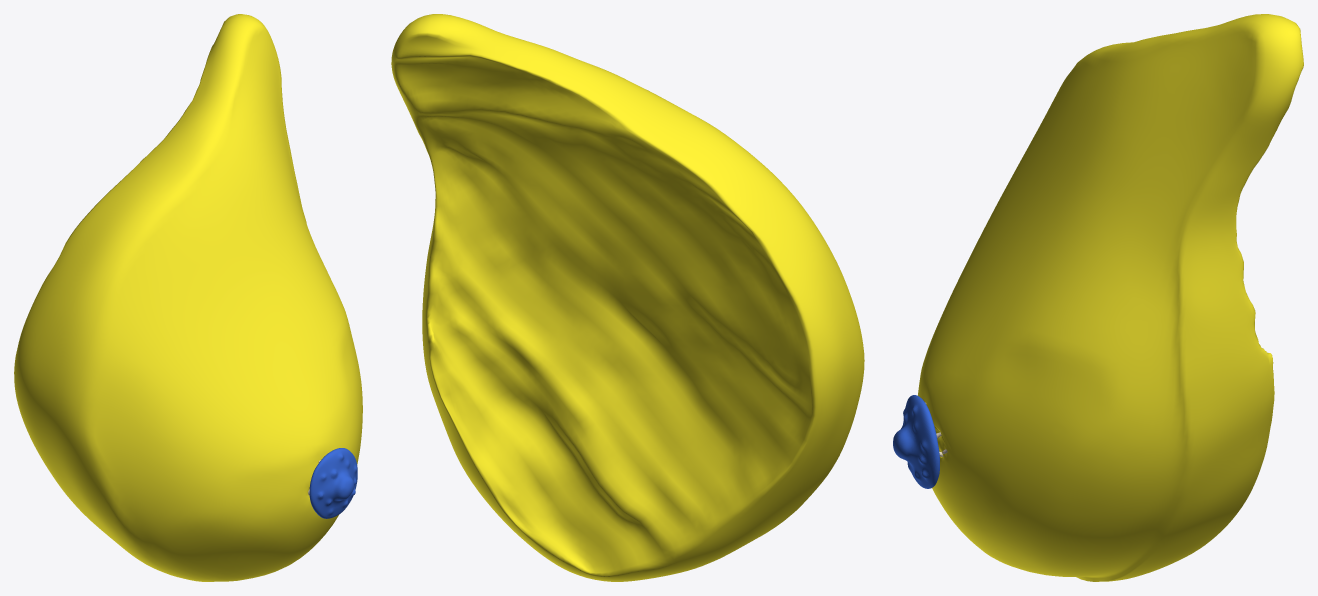
Rendered from mammary-gland-female-left-v1.1.glb.
3 views of the same model, side by side, from view 1: azimuth 30°, elevation 25°; view 2: azimuth 150°, elevation 25°; view 3: azimuth 270°, elevation 25° (orthographic). The views are drawn at different scales.
Parts seen in each view (by area): view 1: VH_F_fat_L, VH_F_areola_L; view 2: VH_F_fat_L; view 3: VH_F_fat_L, VH_F_areola_L, VH_F_nipple_L.
Boxes of the visible parts, x1,y1,x2,y2 form: VH_F_fat_L: [14, 14, 362, 581]; VH_F_areola_L: [309, 448, 357, 518]; VH_F_fat_L: [391, 14, 864, 581]; VH_F_fat_L: [918, 14, 1303, 581]; VH_F_areola_L: [901, 395, 939, 488]; VH_F_nipple_L: [893, 427, 913, 464].
Size of the model in its own units: 0.1282 by 0.1819 by 0.1119.
